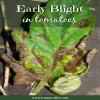Tomato Early blight leaf: (7, 1, 96, 88)
